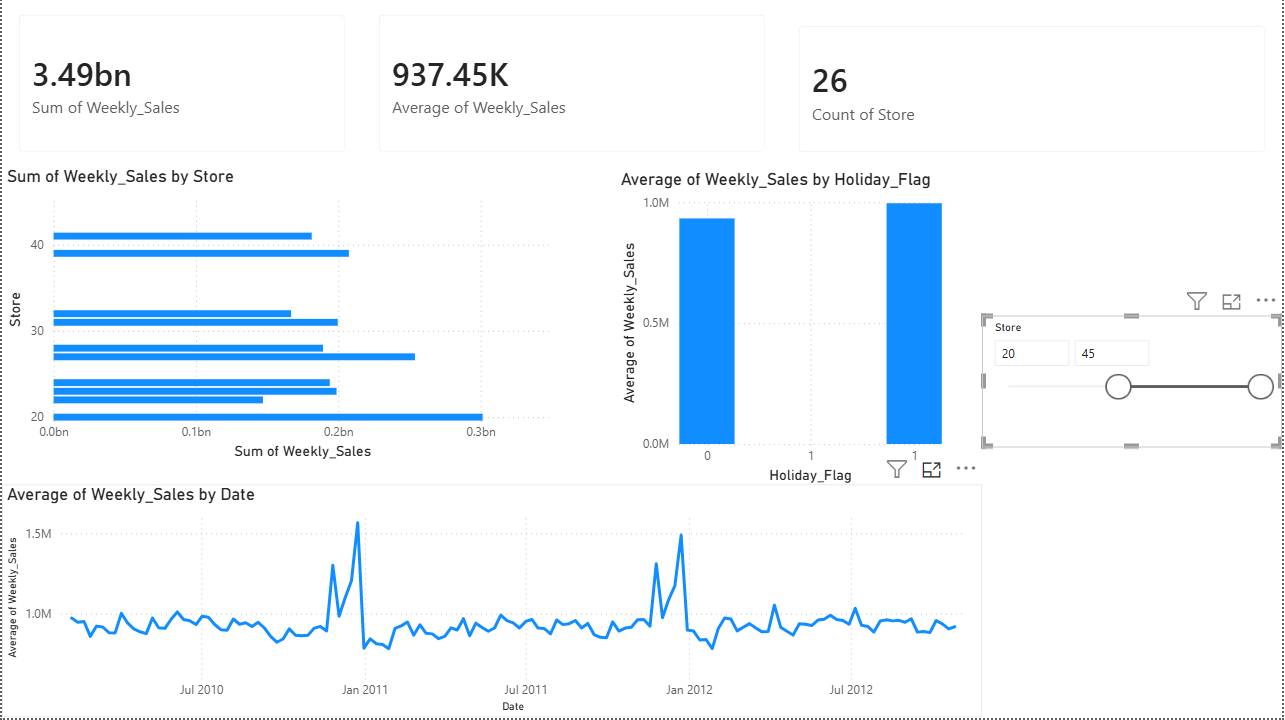

This screenshot's page, from the dashboard's own definition file:
{"tool":"powerbi","page":{"name":"Page 1","canvas":[1280,720],"ordinal":0},"visuals":[{"type":"cardVisual","fields":{"Data":["Sum(Walmart.Weekly_Sales)"]},"box":[0,0,360,171.2],"z":0},{"type":"cardVisual","fields":{"Data":["Avg(Walmart.Weekly_Sales)"]},"box":[360,0,420,171.2],"z":1},{"type":"cardVisual","fields":{"Data":["Count(Walmart.Store)"]},"box":[780,11.2,500,160],"z":2},{"type":"clusteredBarChart","fields":{"Category":["Walmart.Store"],"Y":["Sum(Walmart.Weekly_Sales)"]},"box":[0,167.5,570,298.8],"z":3},{"type":"clusteredColumnChart","fields":{"Category":["Walmart.Holiday_Flag"],"Y":["Avg(Walmart.Weekly_Sales)"]},"box":[613.8,171.2,331.2,318.8],"z":4},{"type":"lineChart","fields":{"Y":["Avg(Walmart.Weekly_Sales)"],"Category":["Walmart.Date"]},"box":[0,486.2,980,233.8],"z":5},{"type":"slicer","fields":{"Values":["Walmart.Store"]},"box":[980,317.5,300,132.5],"z":6}]}

Visuals, with their boxes in screenshot pixels (x1, y1, x2, y2), scaled from the page's 1280x720 canvas onto the 1285x720 screenshot:
cardVisual - Sum(Walmart.Weekly_Sales): bbox=(0, 0, 361, 171)
cardVisual - Avg(Walmart.Weekly_Sales): bbox=(361, 0, 783, 171)
cardVisual - Count(Walmart.Store): bbox=(783, 11, 1284, 171)
clusteredBarChart - Walmart.Store x Sum(Walmart.Weekly_Sales): bbox=(0, 168, 572, 466)
clusteredColumnChart - Walmart.Holiday_Flag x Avg(Walmart.Weekly_Sales): bbox=(616, 171, 949, 490)
lineChart - Avg(Walmart.Weekly_Sales) x Walmart.Date: bbox=(0, 486, 984, 719)
slicer - Walmart.Store: bbox=(984, 318, 1284, 450)
